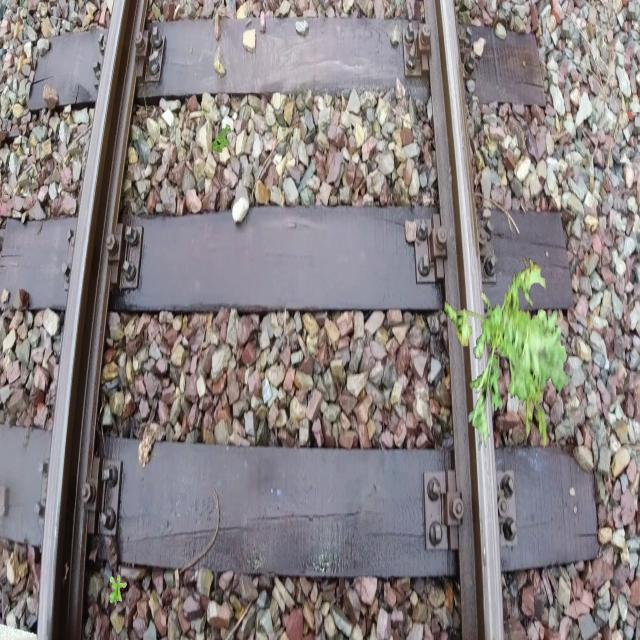Plant: (445, 256, 570, 452), (212, 124, 232, 156), (110, 574, 128, 606)
